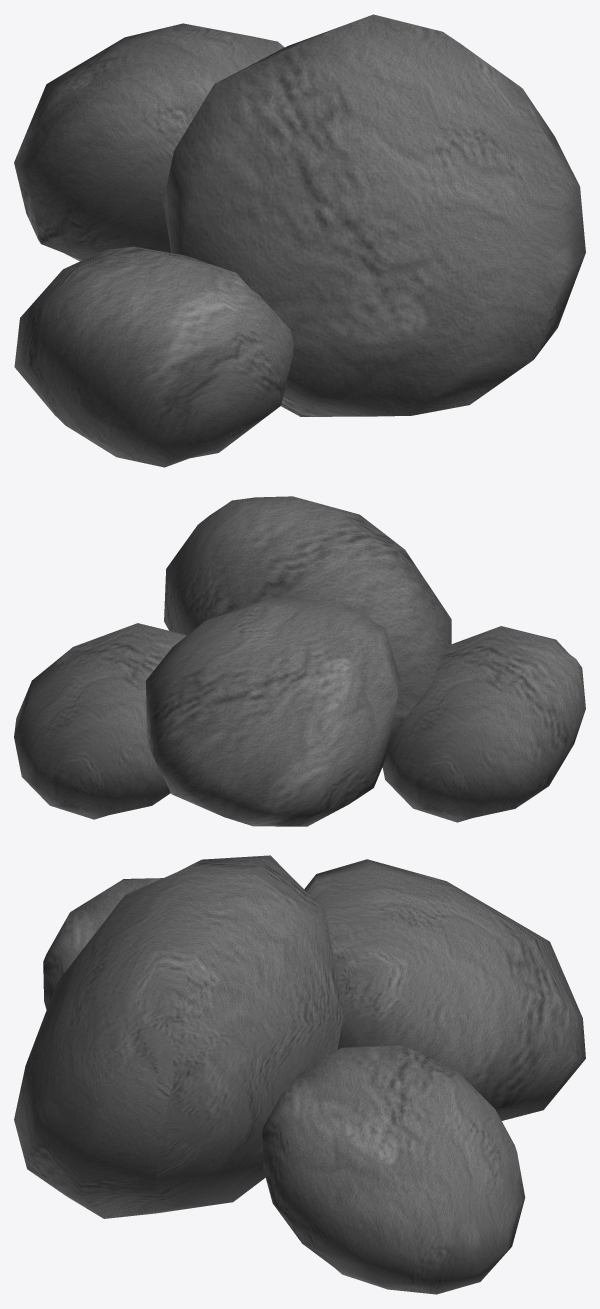
The model's file is StoneCluster1Shape.dae.
The picture shows the model from 3 angles, top to bottom: view 1: azimuth 30°, elevation 25°; view 2: azimuth 150°, elevation 25°; view 3: azimuth 270°, elevation 25°; orthographic projection. The views are drawn at different scales.
Visible parts, largest first — view 1: StoneCluster1; view 2: StoneCluster1; view 3: StoneCluster1.
Part boxes in pixels (x1=…): StoneCluster1: x1=14, y1=14, x2=585, y2=467; StoneCluster1: x1=14, y1=496, x2=585, y2=826; StoneCluster1: x1=14, y1=855, x2=585, y2=1294.
Bounding box in the file's own units: 52.35 × 29.28 × 44.91.
